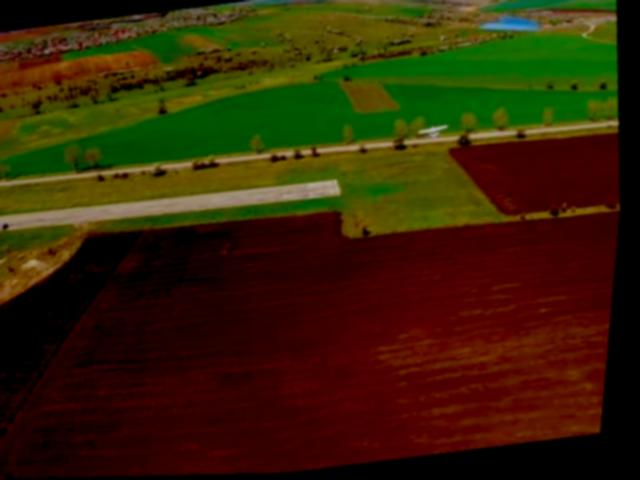uav: (416, 118, 455, 149)
